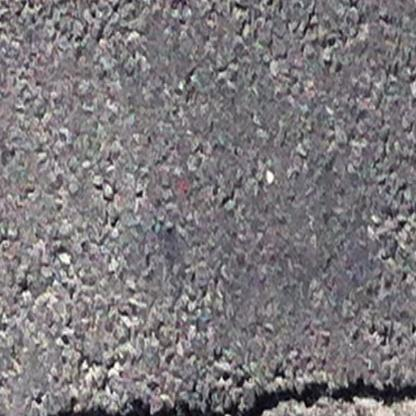Cracks: (30, 379, 416, 416)
